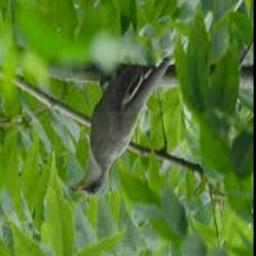Cuckoo: (70, 57, 171, 196)
